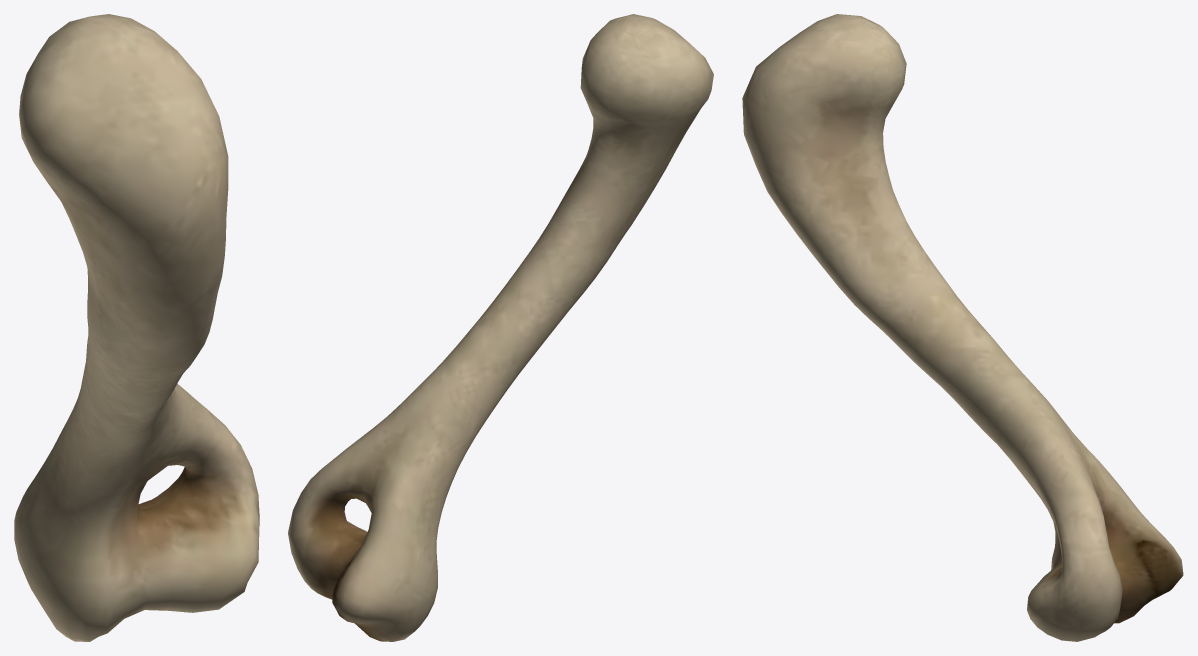
The model's file is Humerus.glb.
3 renders of one model, left to right at view 1: azimuth 30°, elevation 25°; view 2: azimuth 150°, elevation 25°; view 3: azimuth 270°, elevation 25°, orthographic. The views are drawn at different scales.
Visible parts, largest first — view 1: polySurface2; view 2: polySurface2; view 3: polySurface2.
Boxes of the visible parts, x1,y1,x2,y2 form: polySurface2: [14, 14, 259, 641]; polySurface2: [288, 14, 713, 641]; polySurface2: [742, 14, 1183, 641].
Size of the model in its own units: 58.93 by 109 by 79.57.
Materials: 1 (1 with a texture image).
